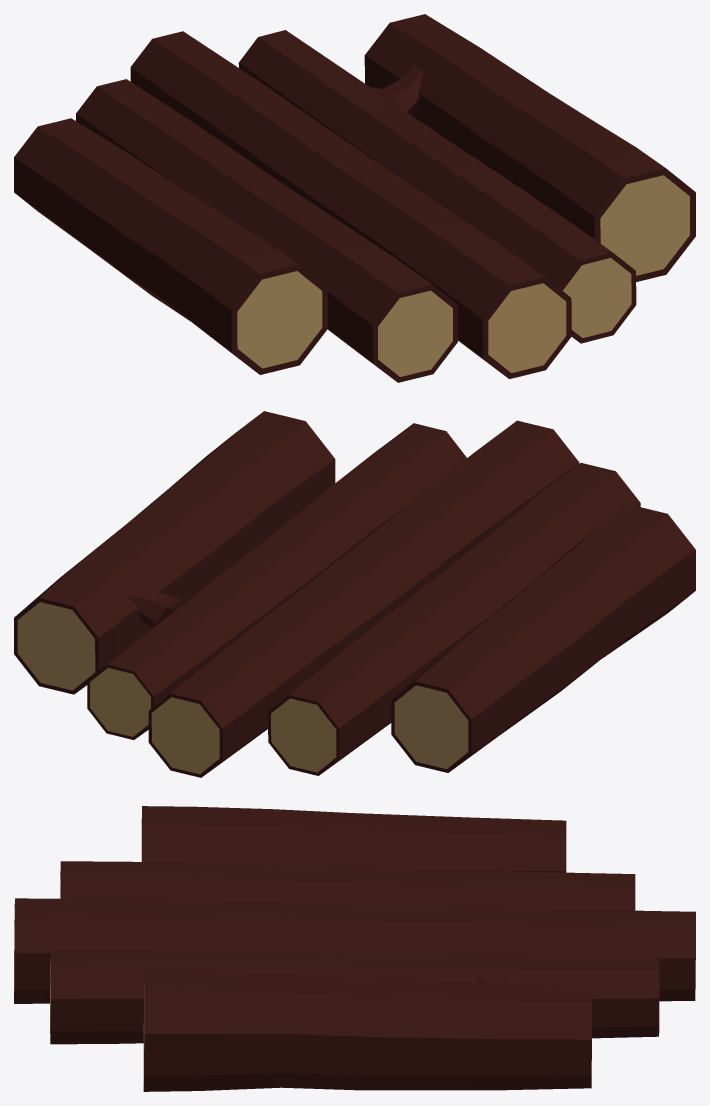
The model's file is SM_FurnaceFuel_Wooden_Lv1.fbx.
The picture shows the model from 3 angles, top to bottom: view 1: azimuth 30°, elevation 25°; view 2: azimuth 150°, elevation 25°; view 3: azimuth 270°, elevation 25°; orthographic projection. The views are drawn at different scales.
Visible parts, largest first — view 1: Furnace_WoodenFuel_Lv1; view 2: Furnace_WoodenFuel_Lv1; view 3: Furnace_WoodenFuel_Lv1.
Part boxes in pixels (x1,y1,x2,y2): Furnace_WoodenFuel_Lv1: [14, 14, 695, 382]; Furnace_WoodenFuel_Lv1: [14, 411, 695, 777]; Furnace_WoodenFuel_Lv1: [14, 806, 695, 1091].
Bounding box in the file's own units: 86.57 × 18.91 × 115.
